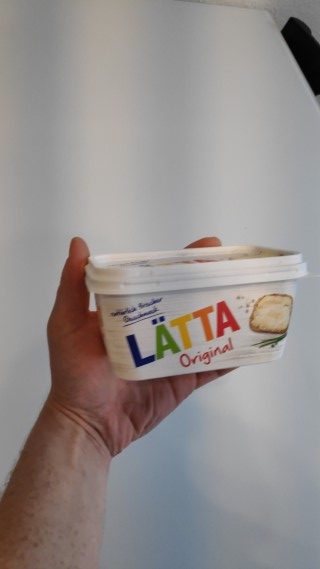laetta: (85, 242, 320, 383)
